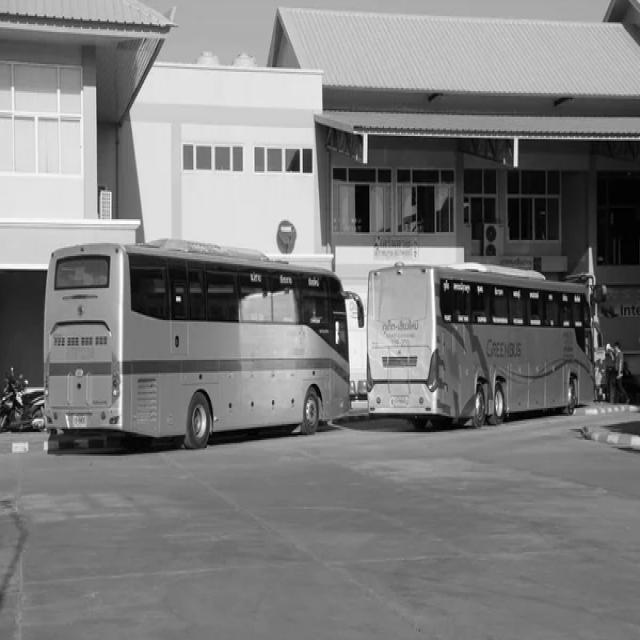Bus: (44, 240, 359, 449), (368, 264, 595, 427)
